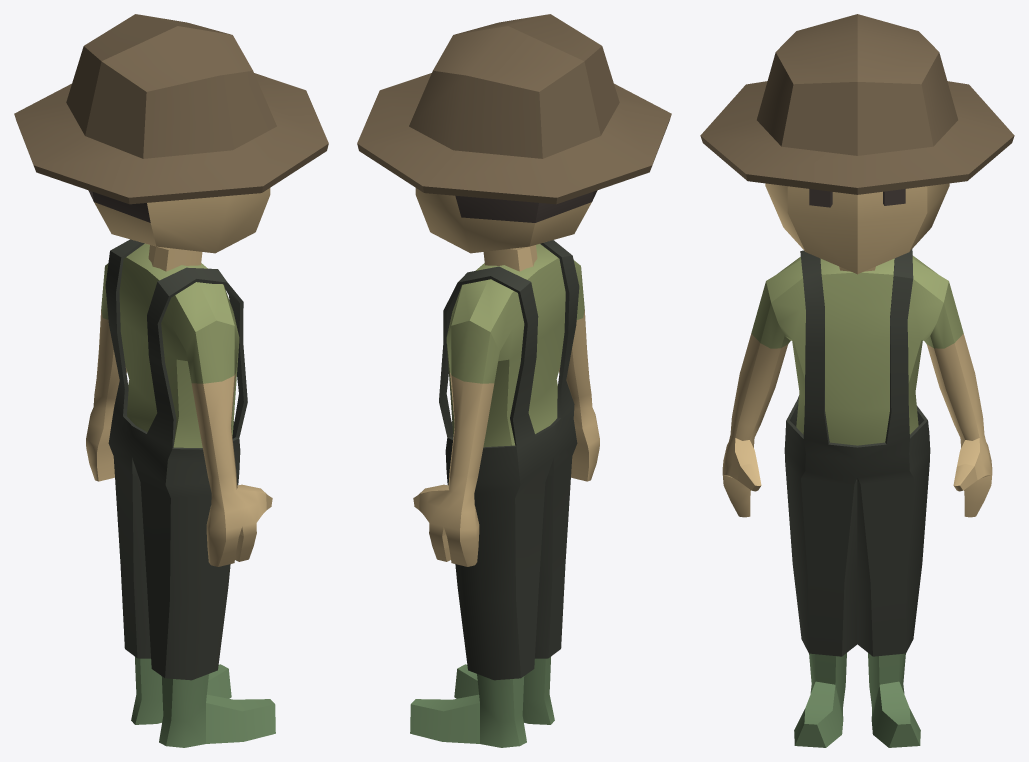
File: Gardener.fbx
The picture shows the model from 3 angles, left to right: view 1: azimuth 30°, elevation 25°; view 2: azimuth 150°, elevation 25°; view 3: azimuth 270°, elevation 25°; orthographic projection. The views are drawn at different scales.
Parts seen in each view (by area): view 1: geo_Gardener; view 2: geo_Gardener; view 3: geo_Gardener.
Part boxes in pixels (box(x1,y1,x2,y2)): geo_Gardener: box(14, 14, 328, 747); geo_Gardener: box(357, 14, 671, 747); geo_Gardener: box(700, 14, 1014, 747).
Size of the model in its own units: 0.7113 by 1.75 by 0.7305.
